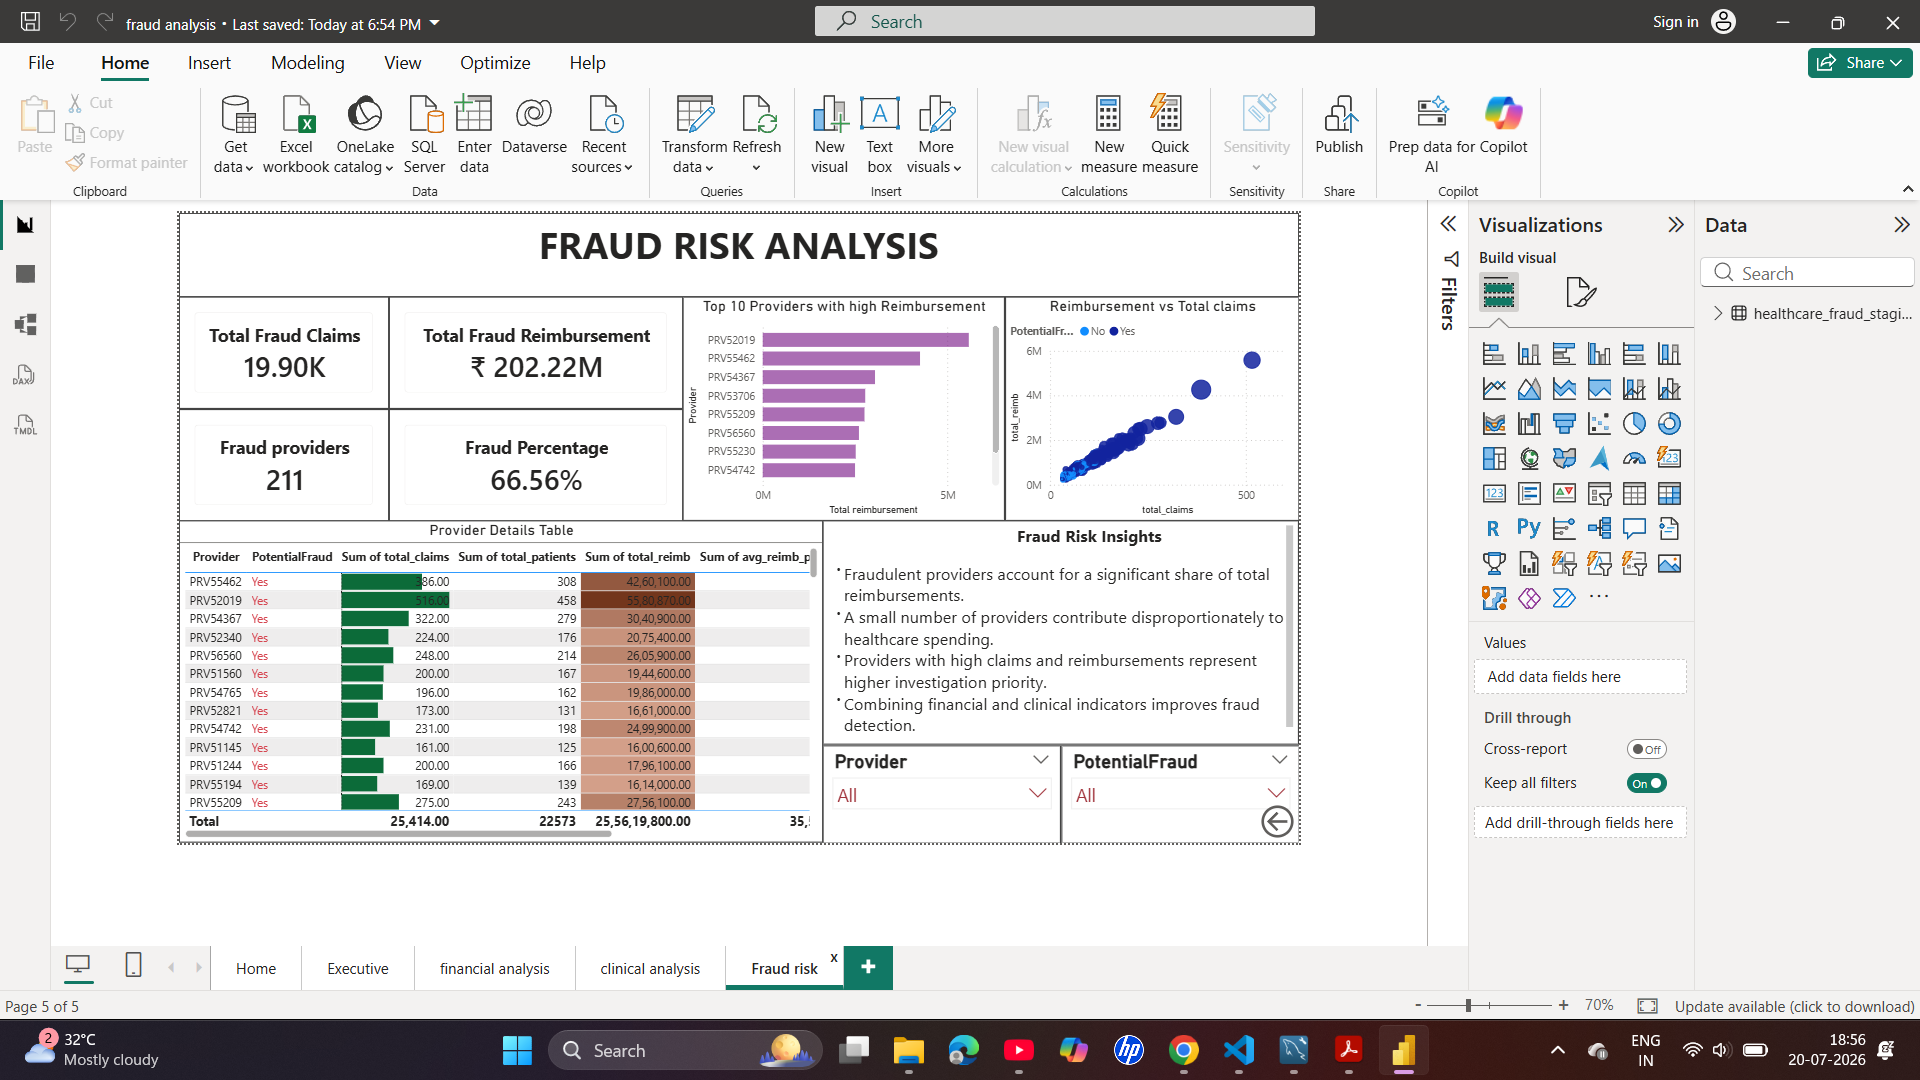

Layout of this report page (visuals, bound fields, positions):
{"tool":"powerbi","page":{"name":"Fraud risk ","canvas":[1280,720],"ordinal":4},"visuals":[{"type":"textbox","box":[0,0,1280,96],"z":0},{"type":"cardVisual","fields":{"Data":["healthcare_fraud_staging provider_summary.Total Fraud Claims"]},"box":[0,96,240,128],"z":1000},{"type":"cardVisual","fields":{"Data":["healthcare_fraud_staging provider_summary.Fraud providers"]},"box":[0,224,240,128],"z":2000},{"type":"cardVisual","fields":{"Data":["healthcare_fraud_staging provider_summary.Total Fraud Reimbursement"]},"box":[240,96,336,128],"z":3000},{"type":"cardVisual","fields":{"Data":["healthcare_fraud_staging provider_summary.Fraud Percentage"]},"box":[240,224,336,128],"z":4000},{"type":"clusteredBarChart","title":"Top 10 Providers with high Reimbursement ","fields":{"Category":["healthcare_fraud_staging provider_summary.provider"],"Y":["Sum(healthcare_fraud_staging provider_summary.total_reimb)"]},"box":[576,96,368,256],"z":5000},{"type":"scatterChart","title":"Reimbursement vs Total claims","fields":{"X":["healthcare_fraud_staging provider_summary.total_claims"],"Y":["healthcare_fraud_staging provider_summary.total_reimb"],"Size":["Sum(healthcare_fraud_staging provider_summary.readmitted)"],"Series":["healthcare_fraud_staging provider_summary.PotentialFraud"]},"box":[944,96,336,256],"z":6000},{"type":"tableEx","title":"Provider Details Table","fields":{"Values":["healthcare_fraud_staging provider_summary.provider","healthcare_fraud_staging provider_summary.PotentialFraud","Sum(healthcare_fraud_staging provider_summary.total_claims)","Sum(healthcare_fraud_staging provider_summary.total_patients)","Sum(healthcare_fraud_staging provider_summary.total_reimb)","Sum(healthcare_fraud_staging provider_summary.avg_reimb_per_patient)","Sum(healthcare_fraud_staging provider_summary.readmitted)","Sum(healthcare_fraud_staging provider_summary.readm_rate)"]},"box":[0,352,736,368],"z":7000},{"type":"textbox","box":[736,352,544,256],"z":8000},{"type":"slicer","fields":{"Values":["healthcare_fraud_staging provider_summary.provider"]},"box":[736,608,272,112],"z":9000},{"type":"slicer","fields":{"Values":["healthcare_fraud_staging provider_summary.PotentialFraud"]},"box":[1008,608,272,112],"z":10000},{"type":"actionButton","box":[1232,672,48,48],"z":11000}]}

Visuals, with their boxes on the page's 1280x720 design canvas (x1, y1, x2, y2). These are canvas units, not pixel positions in the 1920x1080 screenshot, which may show the page scaled, cropped or inside an application window:
textbox: {"left": 0, "top": 0, "right": 1280, "bottom": 96}
cardVisual - healthcare_fraud_staging provider_summary.Total Fraud Claims: {"left": 0, "top": 96, "right": 240, "bottom": 224}
cardVisual - healthcare_fraud_staging provider_summary.Fraud providers: {"left": 0, "top": 224, "right": 240, "bottom": 352}
cardVisual - healthcare_fraud_staging provider_summary.Total Fraud Reimbursement: {"left": 240, "top": 96, "right": 576, "bottom": 224}
cardVisual - healthcare_fraud_staging provider_summary.Fraud Percentage: {"left": 240, "top": 224, "right": 576, "bottom": 352}
"Top 10 Providers with high Reimbursement " clusteredBarChart: {"left": 576, "top": 96, "right": 944, "bottom": 352}
"Reimbursement vs Total claims" scatterChart: {"left": 944, "top": 96, "right": 1280, "bottom": 352}
"Provider Details Table" tableEx: {"left": 0, "top": 352, "right": 736, "bottom": 720}
textbox: {"left": 736, "top": 352, "right": 1280, "bottom": 608}
slicer - healthcare_fraud_staging provider_summary.provider: {"left": 736, "top": 608, "right": 1008, "bottom": 720}
slicer - healthcare_fraud_staging provider_summary.PotentialFraud: {"left": 1008, "top": 608, "right": 1280, "bottom": 720}
actionButton: {"left": 1232, "top": 672, "right": 1280, "bottom": 720}
